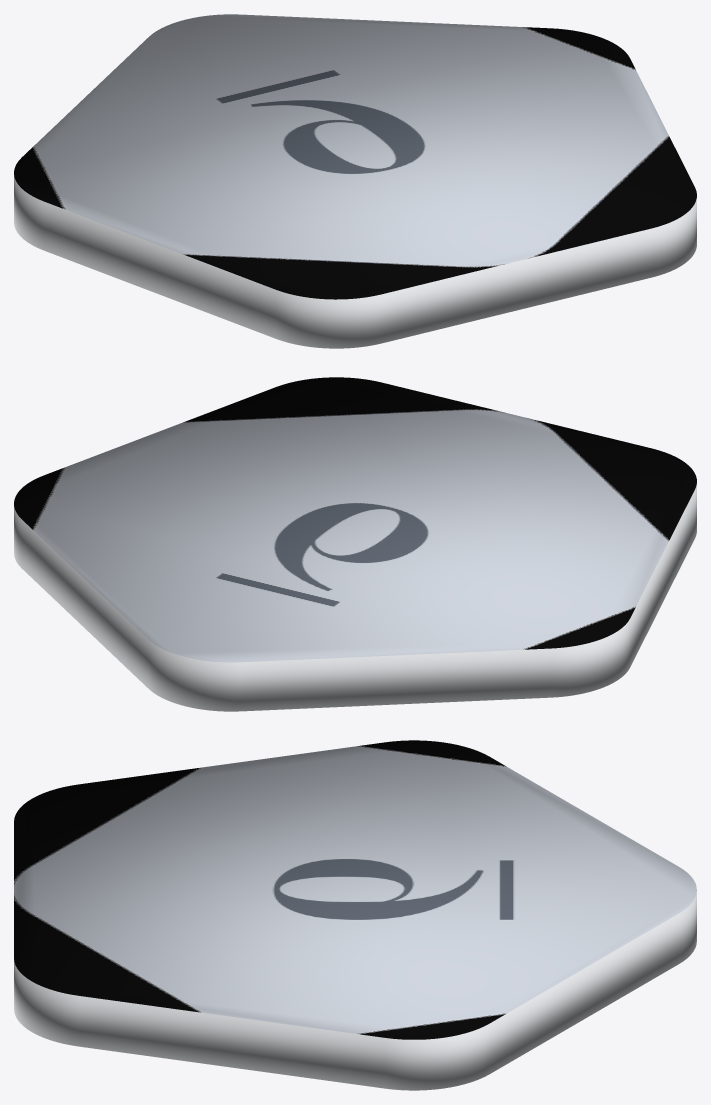
Rendered from pen_9.glb.
3 renders of one model, top to bottom at view 1: azimuth 30°, elevation 25°; view 2: azimuth 150°, elevation 25°; view 3: azimuth 270°, elevation 25°, orthographic. The views are drawn at different scales.
Parts seen in each view (by area): view 1: pen_9; view 2: pen_9; view 3: pen_9.
Part boxes in pixels (bbox=[...]): pen_9: bbox=[14, 14, 696, 348]; pen_9: bbox=[14, 377, 696, 711]; pen_9: bbox=[14, 740, 696, 1090].
Bounding box in the file's own units: 0.0304 × 0.0024 × 0.0293.
Materials: 2 (1 with a texture image).
